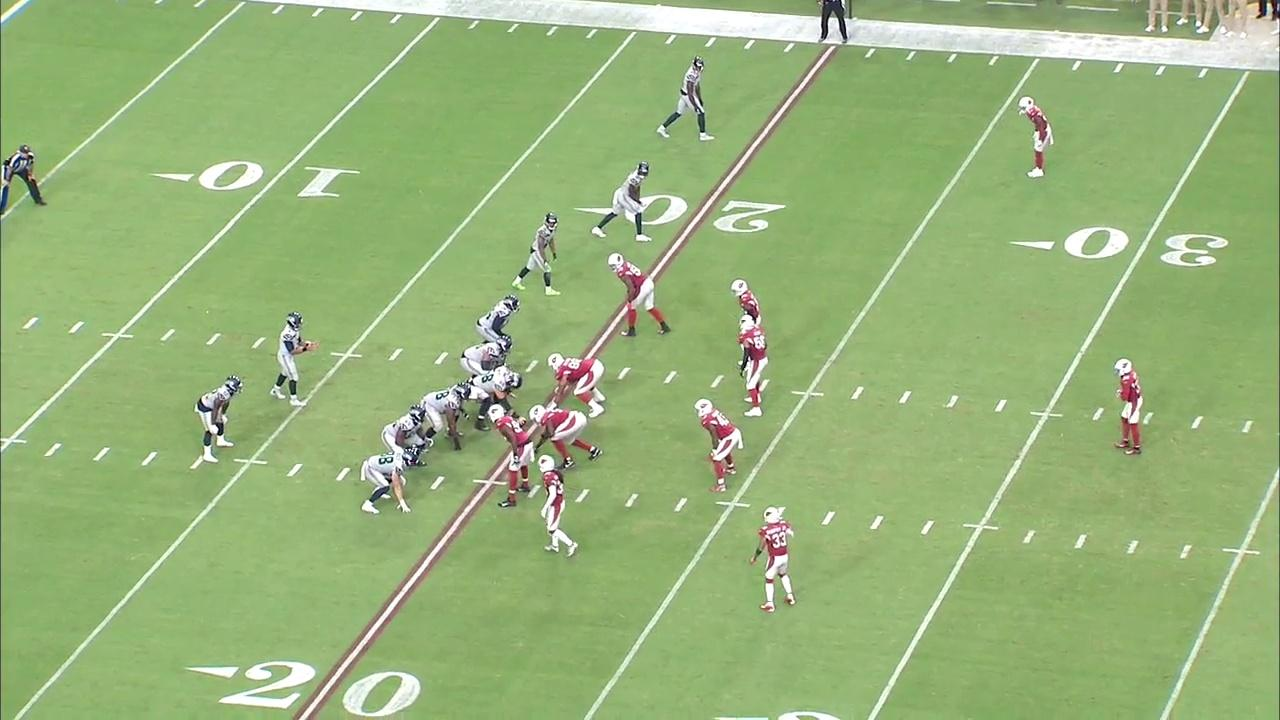player: (184, 375, 250, 463), (594, 155, 658, 245), (607, 253, 671, 341), (754, 494, 796, 621), (486, 403, 534, 513), (656, 52, 714, 142), (524, 399, 604, 463), (537, 457, 582, 570), (509, 206, 562, 300), (272, 297, 313, 408), (462, 367, 530, 433), (1014, 88, 1058, 180), (362, 450, 416, 522), (418, 381, 472, 453), (1112, 359, 1151, 458), (698, 401, 739, 486), (549, 352, 607, 409), (379, 402, 428, 469), (734, 315, 767, 413), (455, 337, 518, 385), (469, 296, 524, 341), (730, 276, 762, 315)
ref: (2, 143, 52, 215)
